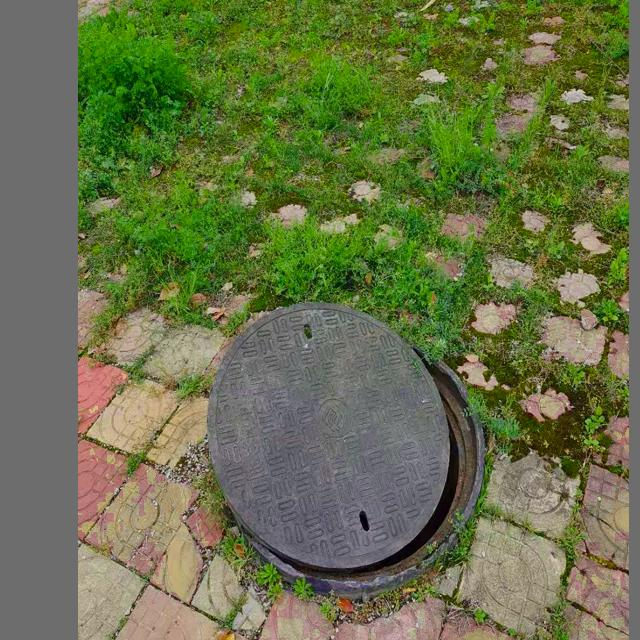uncovered: (206, 305, 485, 596)
